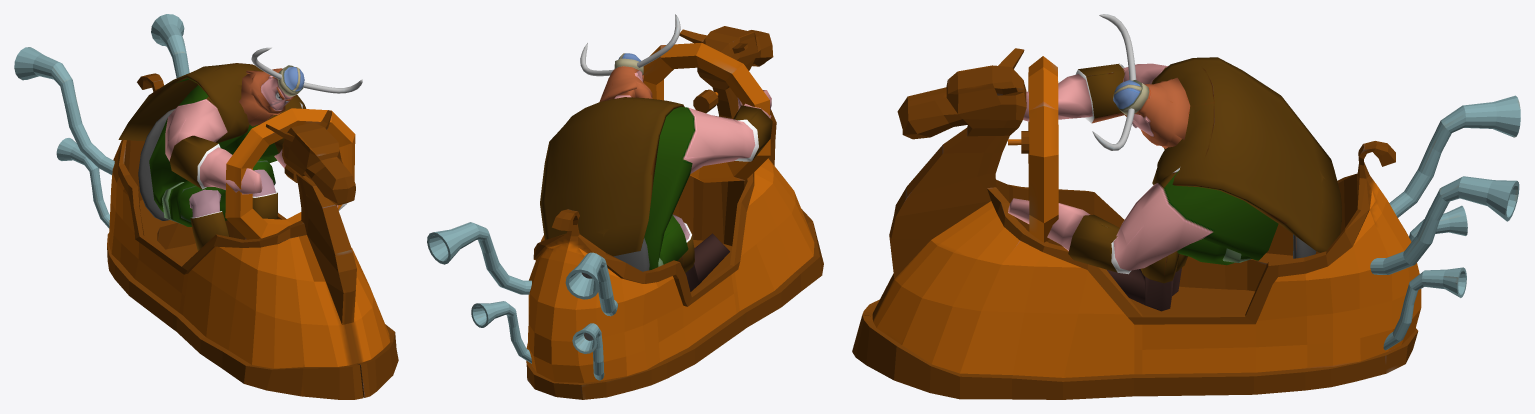
File: vikingoGiroIzq_000545.obj
3 renders of one model, left to right at view 1: azimuth 30°, elevation 25°; view 2: azimuth 150°, elevation 25°; view 3: azimuth 270°, elevation 25°, orthographic. The views are drawn at different scales.
Parts seen in each view (by area): view 1: kartVikingo, Vikingo; view 2: kartVikingo, Vikingo; view 3: kartVikingo, Vikingo.
Boxes of the visible parts, x1,y1,x2,y2 form: kartVikingo: [14, 14, 398, 399]; Vikingo: [118, 47, 362, 250]; kartVikingo: [427, 26, 823, 399]; Vikingo: [540, 14, 772, 291]; kartVikingo: [852, 48, 1520, 399]; Vikingo: [1008, 14, 1341, 311].
Size of the model in its own units: 4.01 by 5.85 by 10.31.
2 materials, 2 textured.
